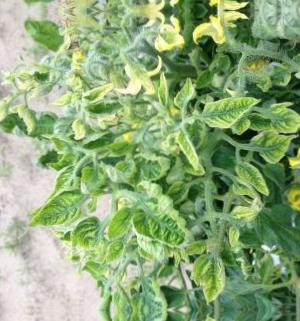Tomato leaf mosaic virus: (28, 188, 88, 231), (200, 95, 260, 130), (146, 208, 185, 247), (71, 218, 103, 249), (109, 204, 133, 241)
